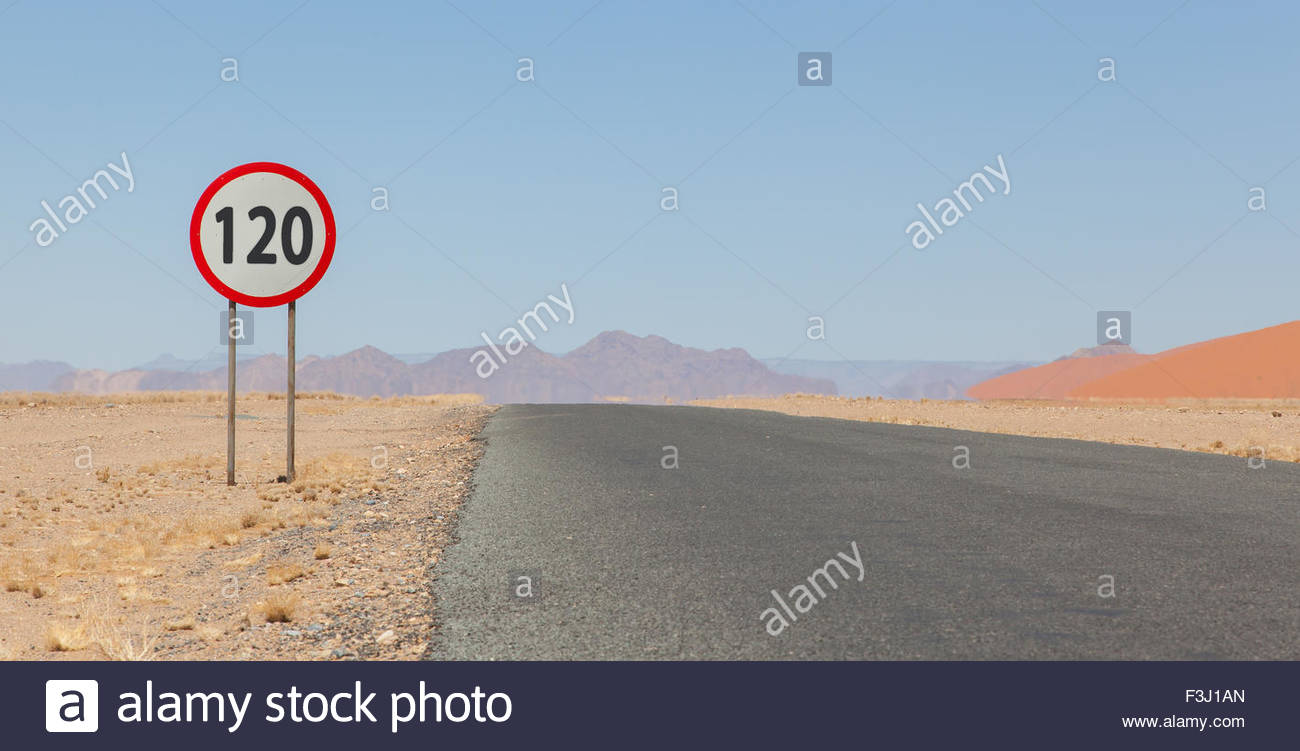Speed_limit_120km: (191, 158, 336, 304)
